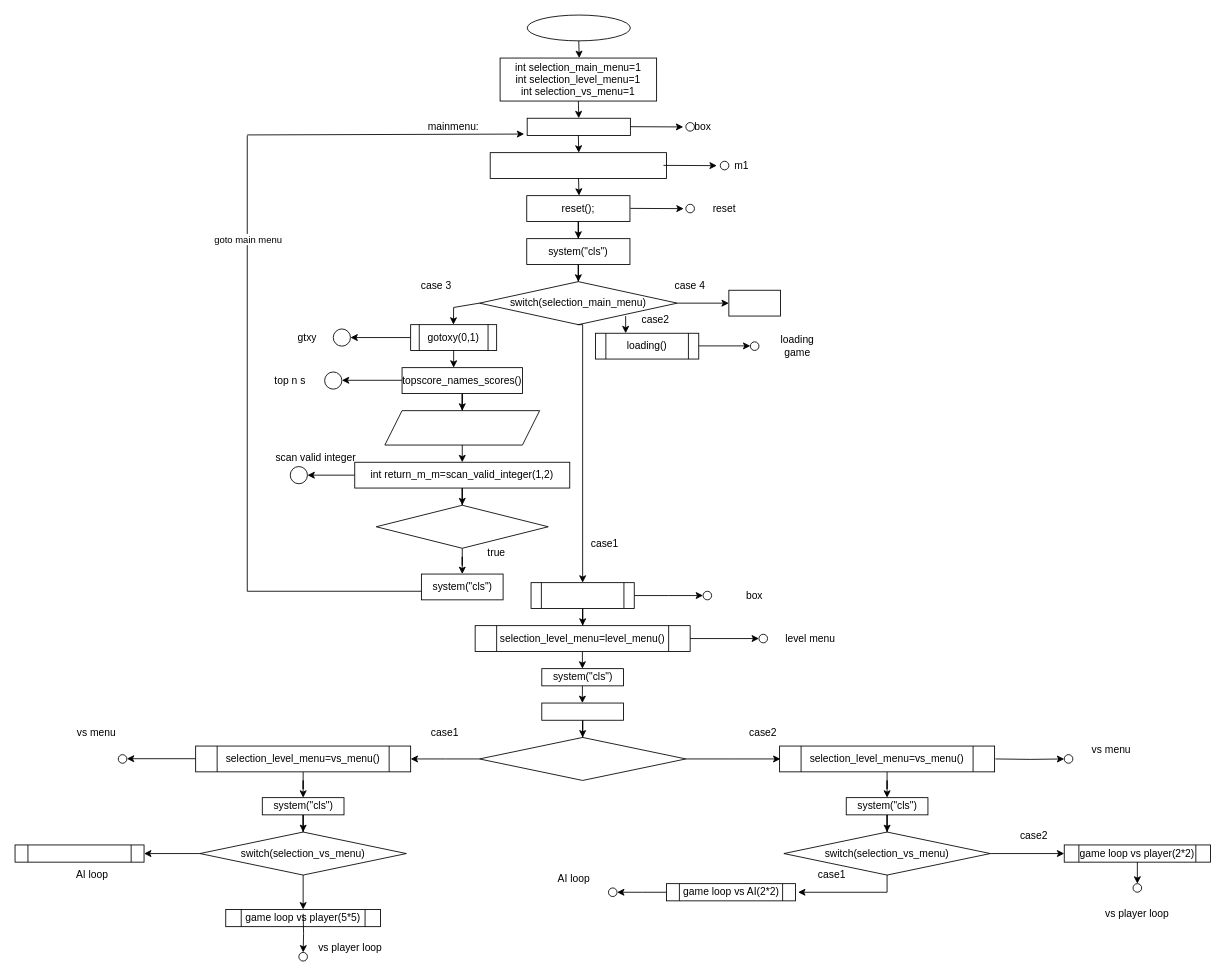
Some shapes in this 1226 by 976 pixel diagram are drawn without their labels. The centre of each missing label's shape, as x and y in pixels:
(return_m_m=1): pixel 461 526
box(2): pixel 582 595
box(4): pixel 578 126
exit(-1): pixel 754 302
game loop vs AI(5*5): pixel 79 853
print(Enter 1 for the main menu): pixel 462 427
reset(): pixel 582 711
selection_main_menu=main_menu();: pixel 577 165
start: pixel 578 27
switch(selection_level_menu): pixel 582 758
